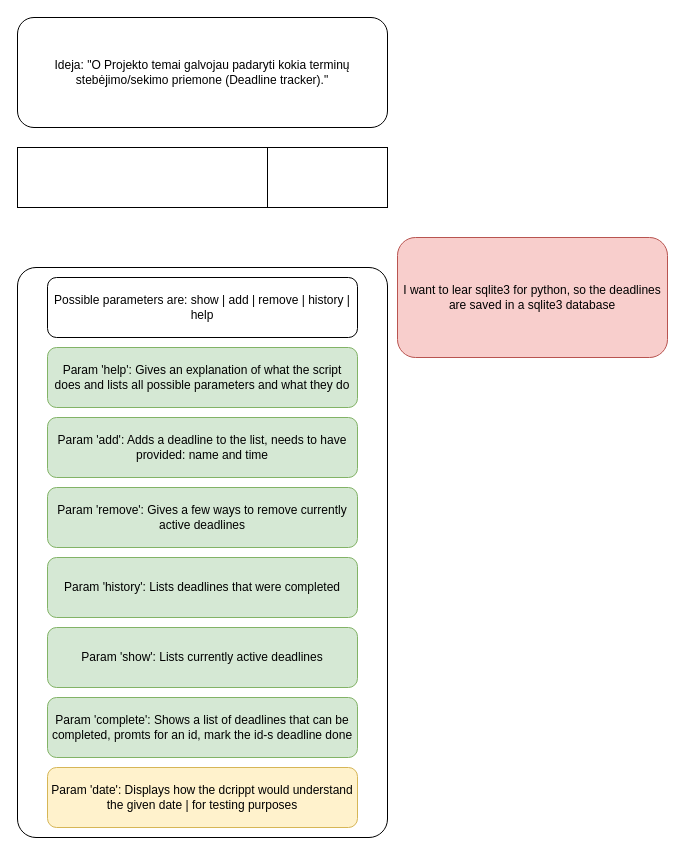
The diagram is 685 pixels wide and 855 high, and some of its shapes have lost their labels. Each missing label, with the centre of its shape:
A unintuitive but quick way to use the functions of the "Deadline tracker": point (142, 177)
Give parameters to the script through terminal: point (327, 177)
